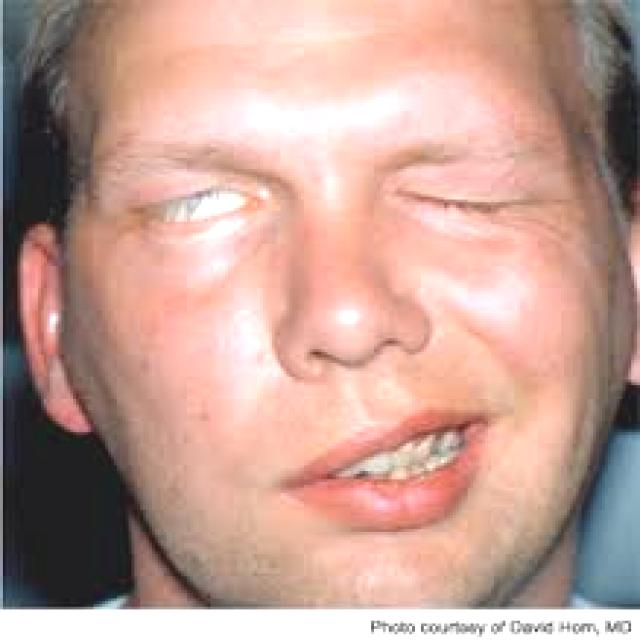stroke_face: (46, 9, 640, 608)
